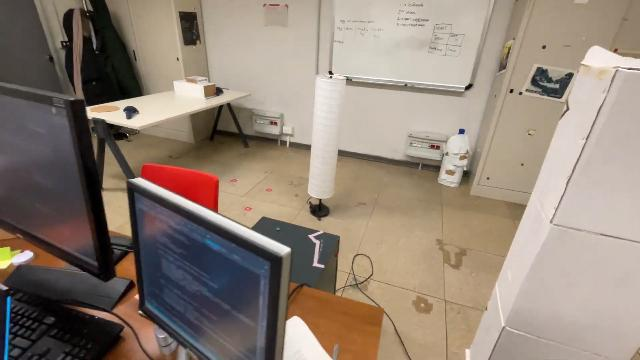Chair: (134, 155, 222, 217)
Lamp: (302, 71, 350, 221)
